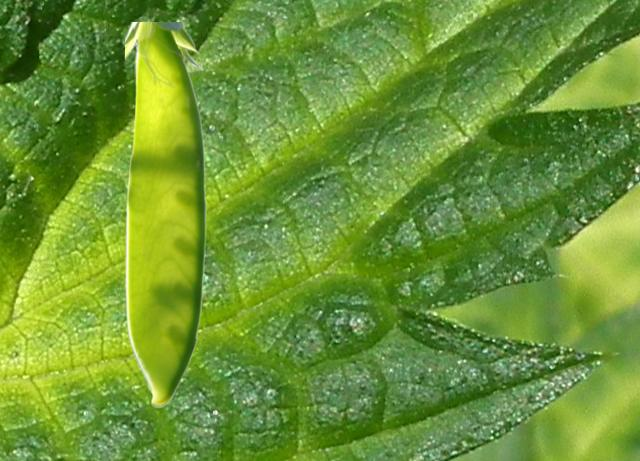pea: (125, 22, 206, 407)
